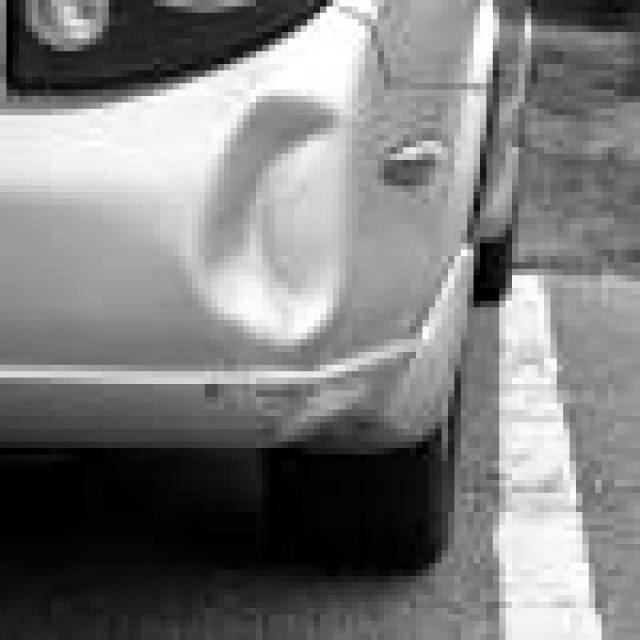rear-bumper-dent: (169, 85, 375, 352)
